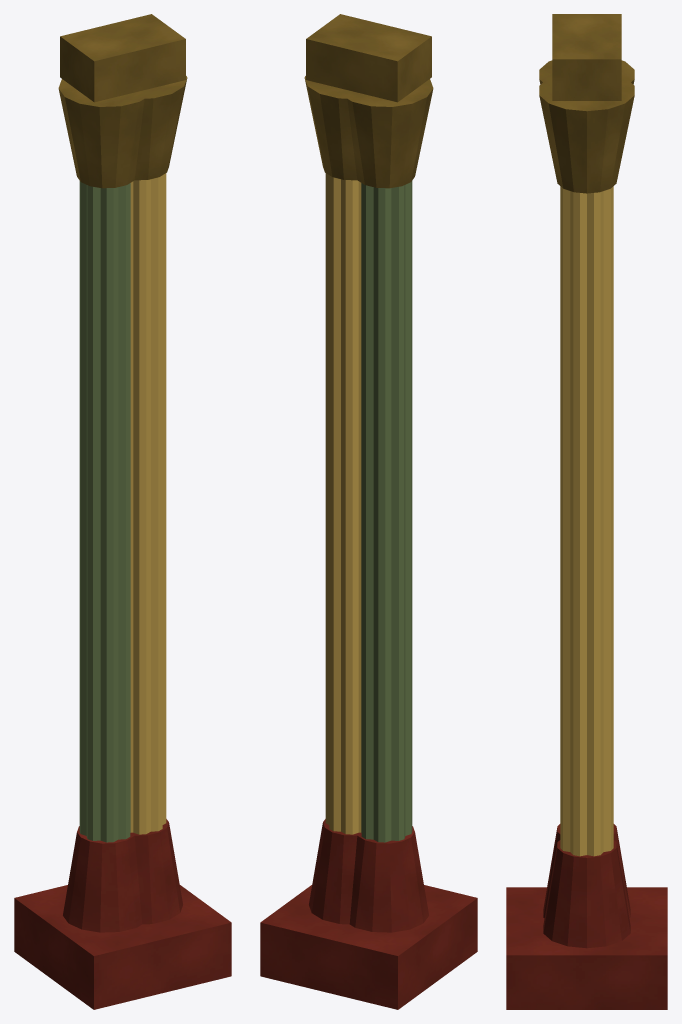
The model's file is exterior-colour.glb.
The picture shows the model from 3 angles, left to right: view 1: azimuth 30°, elevation 25°; view 2: azimuth 150°, elevation 25°; view 3: azimuth 270°, elevation 25°; orthographic projection.
Visible parts, largest first — view 1: Pillar_outer_shaft_green__CONFIRMED-FOR-1792.044, Pillar_outer_base__CONFIRMED-FOR-1792.044, Pillar_outer_shaft_gold__CONFIRMED-FOR-1792.044, Pillar_outer_cap__CONFIRMED-FOR-1792.044; view 2: Pillar_outer_shaft_green__CONFIRMED-FOR-1792.044, Pillar_outer_base__CONFIRMED-FOR-1792.044, Pillar_outer_shaft_gold__CONFIRMED-FOR-1792.044, Pillar_outer_cap__CONFIRMED-FOR-1792.044; view 3: Pillar_outer_shaft_gold__CONFIRMED-FOR-1792.044, Pillar_outer_base__CONFIRMED-FOR-1792.044, Pillar_outer_cap__CONFIRMED-FOR-1792.044.
Boxes of the visible parts, left/top/right/bottom form: Pillar_outer_shaft_green__CONFIRMED-FOR-1792.044: left=79, top=181, right=130, bottom=842; Pillar_outer_base__CONFIRMED-FOR-1792.044: left=14, top=819, right=231, bottom=1009; Pillar_outer_shaft_gold__CONFIRMED-FOR-1792.044: left=130, top=173, right=166, bottom=834; Pillar_outer_cap__CONFIRMED-FOR-1792.044: left=58, top=14, right=187, bottom=188; Pillar_outer_shaft_green__CONFIRMED-FOR-1792.044: left=361, top=181, right=412, bottom=842; Pillar_outer_base__CONFIRMED-FOR-1792.044: left=260, top=819, right=477, bottom=1009; Pillar_outer_shaft_gold__CONFIRMED-FOR-1792.044: left=325, top=173, right=361, bottom=834; Pillar_outer_cap__CONFIRMED-FOR-1792.044: left=304, top=14, right=433, bottom=188; Pillar_outer_shaft_gold__CONFIRMED-FOR-1792.044: left=560, top=186, right=613, bottom=856; Pillar_outer_base__CONFIRMED-FOR-1792.044: left=506, top=824, right=667, bottom=1009; Pillar_outer_cap__CONFIRMED-FOR-1792.044: left=539, top=14, right=634, bottom=193.
Bounding box in the file's own units: 0.59 × 3.79 × 0.59.
Materials: 4 (2 with a texture image).
